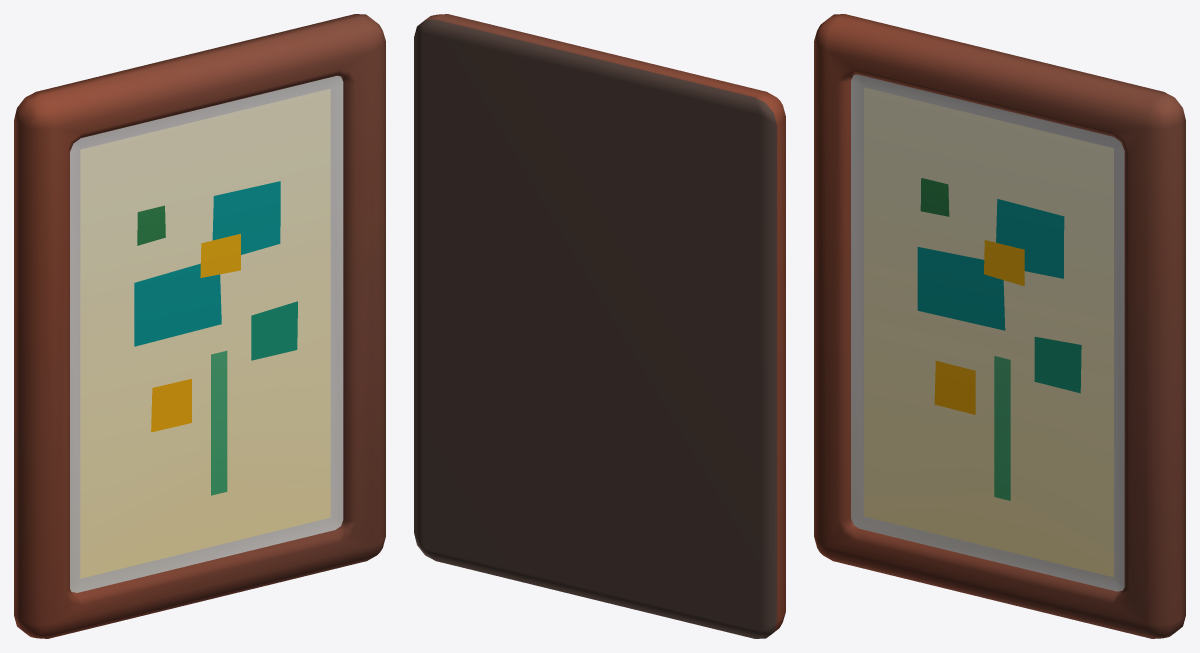
The model's file is cute-furniture-glb-picture-08.glb.
The picture shows the model from 3 angles, left to right: view 1: azimuth 30°, elevation 25°; view 2: azimuth 150°, elevation 25°; view 3: azimuth 330°, elevation 25°; orthographic projection.
Parts seen in each view (by area): view 1: Picture_08; view 2: Picture_08; view 3: Picture_08.
Part boxes in pixels (left/top/right/bottom): Picture_08: left=14, top=14, right=385, bottom=638; Picture_08: left=414, top=14, right=785, bottom=638; Picture_08: left=814, top=14, right=1185, bottom=638.
Size of the model in its own units: 0.5673 by 0.8087 by 0.0585.
Materials: 1 (1 with a texture image).
